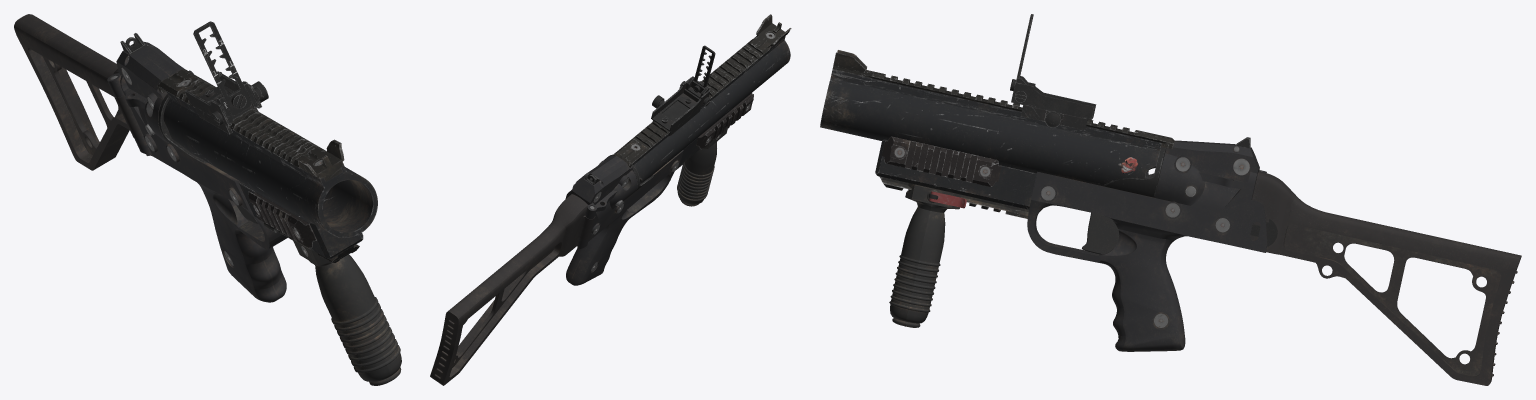
Rendered from game_ready_pbr_grenade_launcher_gl-06.glb.
3 views of the same model, side by side, from view 1: azimuth 30°, elevation 25°; view 2: azimuth 150°, elevation 25°; view 3: azimuth 270°, elevation 25° (orthographic). The views are drawn at different scales.
Visible parts, largest first — view 1: Obj_1_Lowpoly, Obj_11_Lowpoly, Obj_14_Lowpoly, Obj_6_Lowpoly, Obj_12_Lowpoly, Obj_10_Lowpoly, Scope_1_Lowpoly, Obj_19_Lowpoly, Scope_6_Lowpoly, Obj_18_Lowpoly, Scope_4_Lowpoly, Obj_2_Lowpoly (+1 smaller); view 2: Obj_14_Lowpoly, Obj_1_Lowpoly, Obj_11_Lowpoly, Obj_12_Lowpoly, Obj_6_Lowpoly, Scope_6_Lowpoly, Obj_10_Lowpoly, Scope_5_Lowpoly, Scope_1_Lowpoly, Scope_2_Lowpoly; view 3: Obj_1_Lowpoly, Obj_11_Lowpoly, Obj_14_Lowpoly, Obj_6_Lowpoly, Obj_19_Lowpoly, Obj_10_Lowpoly, Obj_12_Lowpoly, Scope_6_Lowpoly, Obj_2_Lowpoly, Obj_3_Lowpoly, Obj_18_Lowpoly, Obj_4_Lowpoly (+1 smaller).
Boxes of the visible parts, <box> form: Obj_1_Lowpoly: <box>107,41,287,302</box>; Obj_11_Lowpoly: <box>163,92,377,237</box>; Obj_14_Lowpoly: <box>14,14,143,170</box>; Obj_6_Lowpoly: <box>292,239,401,385</box>; Obj_12_Lowpoly: <box>157,69,344,181</box>; Obj_10_Lowpoly: <box>248,191,316,248</box>; Scope_1_Lowpoly: <box>193,21,251,115</box>; Obj_19_Lowpoly: <box>238,181,363,259</box>; Scope_6_Lowpoly: <box>184,71,261,126</box>; Obj_18_Lowpoly: <box>158,94,208,163</box>; Scope_4_Lowpoly: <box>205,87,263,125</box>; Obj_2_Lowpoly: <box>121,67,300,265</box>; Obj_14_Lowpoly: <box>430,194,595,385</box>; Obj_1_Lowpoly: <box>565,150,683,285</box>; Obj_11_Lowpoly: <box>632,36,790,183</box>; Obj_12_Lowpoly: <box>613,14,791,167</box>; Obj_6_Lowpoly: <box>677,129,727,206</box>; Scope_6_Lowpoly: <box>651,77,710,131</box>; Obj_10_Lowpoly: <box>696,93,753,149</box>; Scope_5_Lowpoly: <box>652,100,700,135</box>; Scope_1_Lowpoly: <box>694,45,715,87</box>; Scope_2_Lowpoly: <box>683,76,709,101</box>; Obj_1_Lowpoly: <box>1027,140,1266,351</box>; Obj_11_Lowpoly: <box>820,69,1161,186</box>; Obj_14_Lowpoly: <box>1250,171,1521,385</box>; Obj_6_Lowpoly: <box>889,183,961,327</box>; Obj_19_Lowpoly: <box>875,139,1036,209</box>; Obj_10_Lowpoly: <box>882,136,1001,186</box>; Obj_12_Lowpoly: <box>832,50,1174,149</box>; Scope_6_Lowpoly: <box>1011,82,1096,119</box>; Obj_2_Lowpoly: <box>894,147,1249,327</box>; Obj_3_Lowpoly: <box>1082,212,1119,254</box>; Obj_18_Lowpoly: <box>1103,147,1166,197</box>; Obj_4_Lowpoly: <box>879,176,1028,218</box>.
Bounding box in the file's own units: 625 × 1211 × 2471.
2 materials, 2 textured.
